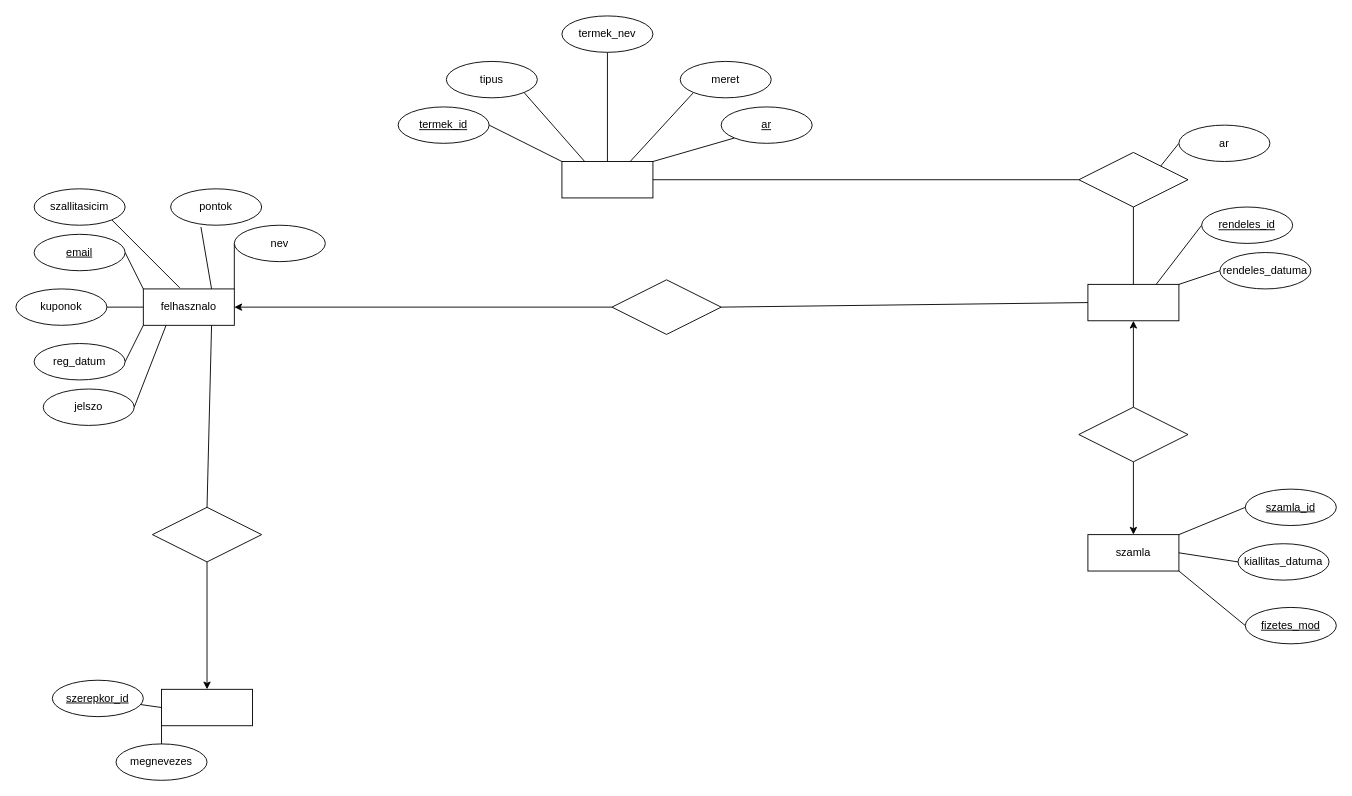
The diagram is 1352 pixels wide and 796 high, and some of its shapes have lost their labels. Here are the shapes that lost their labels. From the top down, the centre of each, then its label:
At (x=607, y=179): "termek".
At (x=1133, y=179): "rendelesek".
At (x=666, y=306): "rendel".
At (x=1133, y=302): "rendeles".
At (x=1133, y=434): "szamlaja".
At (x=207, y=534): "felhasznaloi szerepkor".
At (x=207, y=707): "szerepkor".
